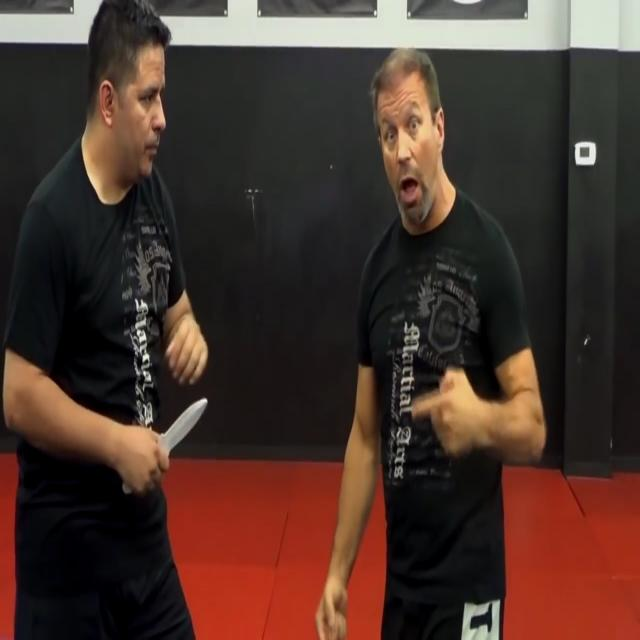knife: (123, 398, 211, 500)
